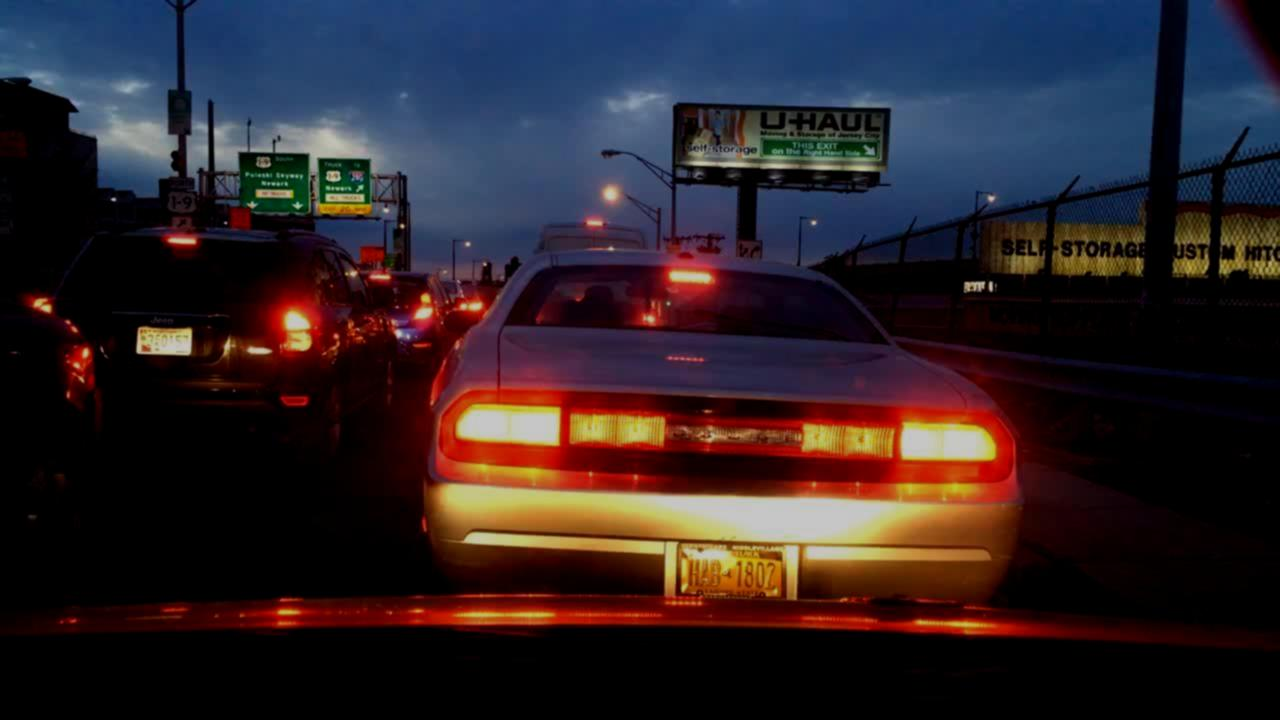jeep: (147, 314, 177, 328)
